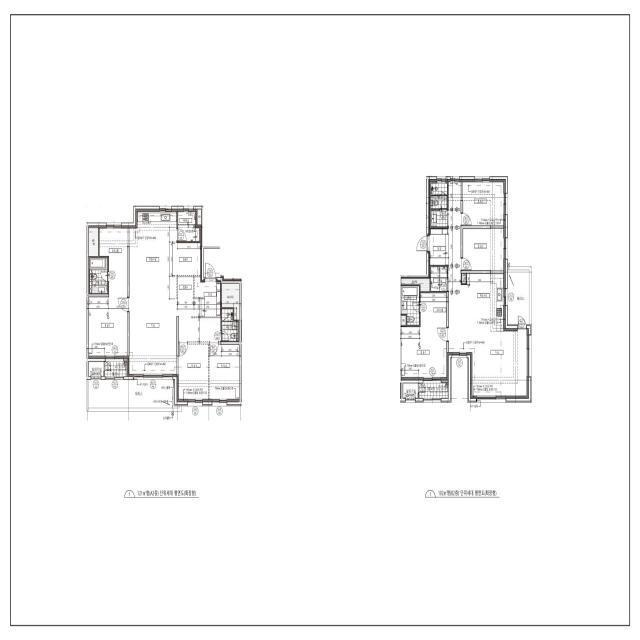space_balconi: (419, 383, 448, 398), (105, 362, 127, 377)
space_bedroom: (401, 327, 448, 380), (89, 297, 127, 359), (463, 179, 505, 225), (177, 344, 209, 402), (463, 229, 505, 271), (209, 345, 239, 402)
space_dressroom: (99, 226, 127, 297), (421, 293, 446, 328)
space_front: (195, 277, 221, 316), (428, 229, 449, 265)
space_kitchen: (129, 209, 202, 277), (467, 274, 505, 320)
space_living_room: (449, 179, 529, 398), (128, 277, 221, 377)
space_multipurpose_space: (178, 209, 199, 241)
space_other: (222, 284, 239, 320), (431, 267, 447, 291), (401, 279, 430, 291), (178, 277, 193, 299), (89, 226, 98, 256), (197, 210, 202, 224), (401, 316, 406, 325), (462, 274, 466, 283)
space_outdoor_room: (403, 383, 418, 398), (89, 362, 104, 377)
space_toilet: (431, 183, 447, 227), (401, 286, 419, 325), (90, 258, 107, 293), (222, 309, 238, 341)
